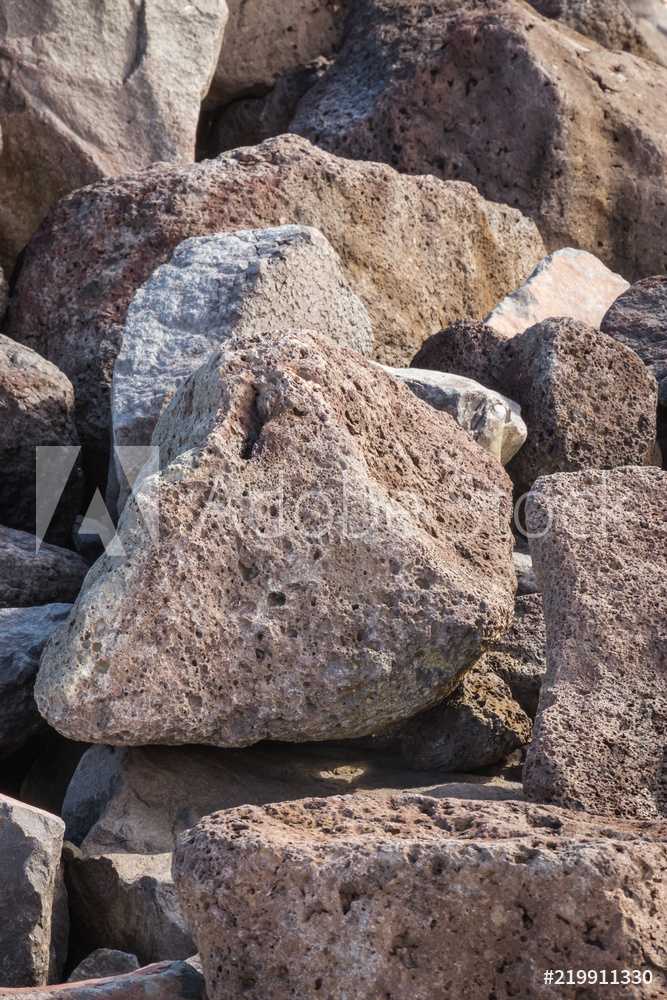volcanic_rock: (53, 362, 504, 762), (18, 120, 523, 401), (172, 799, 657, 1000), (523, 452, 667, 840), (491, 313, 655, 481)
